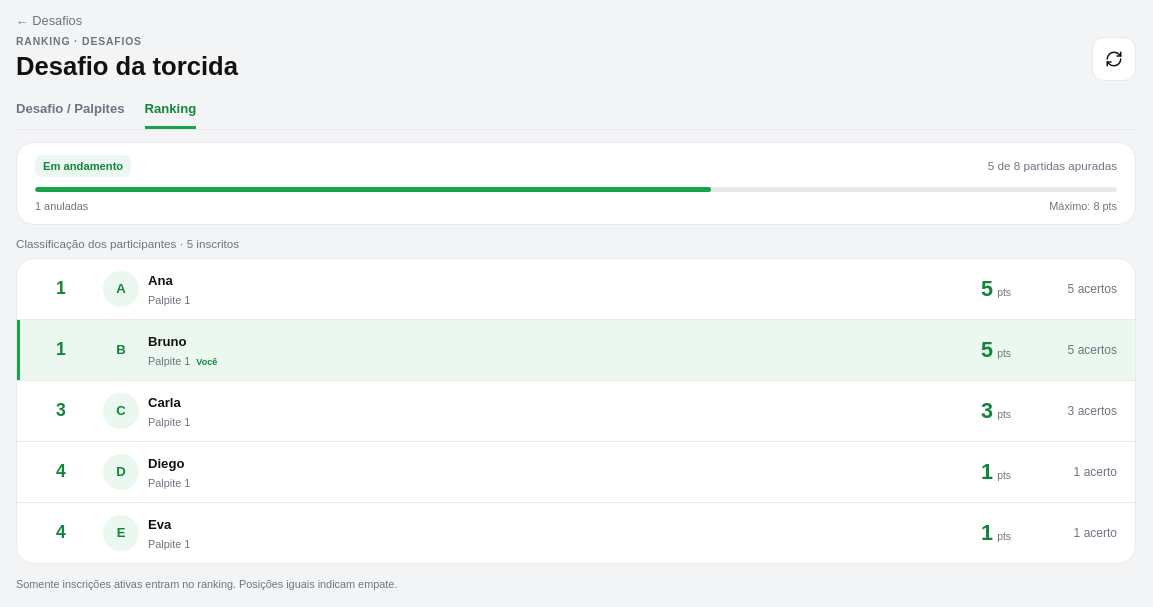
Test: atualiza ranking automaticamente, evita leituras duplicadas e para após apuração
Click the button named "Atualizar ranking": point(1114, 60) top-left (1092, 38), bottom-right (1136, 82)
Wait 210000 ms
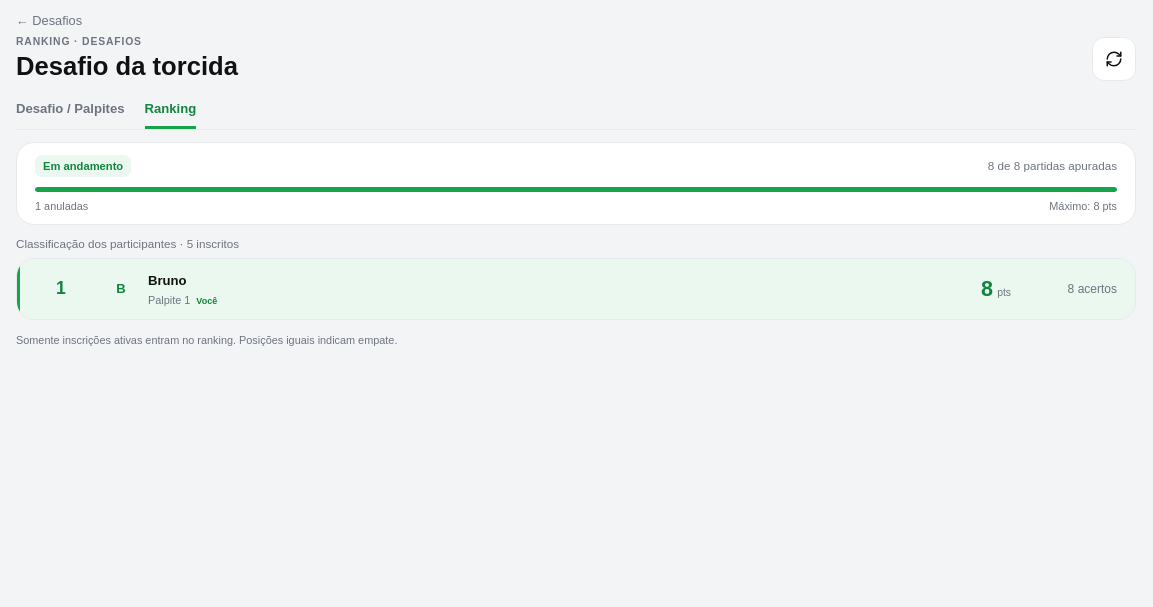
Now the text "8" is shown, box top-left (981, 276), bottom-right (993, 302)
